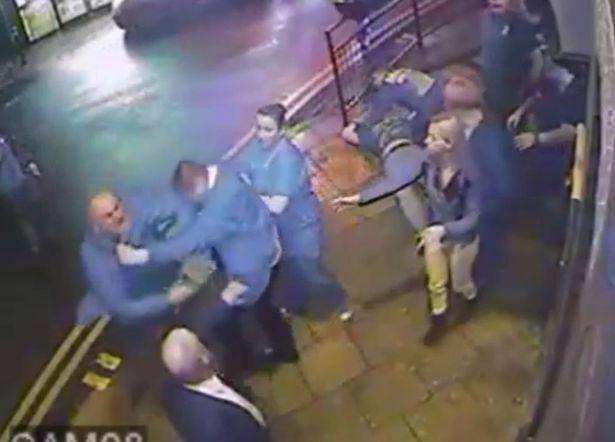person: (248, 102, 351, 324), (411, 112, 490, 333), (73, 184, 181, 328), (168, 158, 283, 286), (154, 324, 273, 442)
